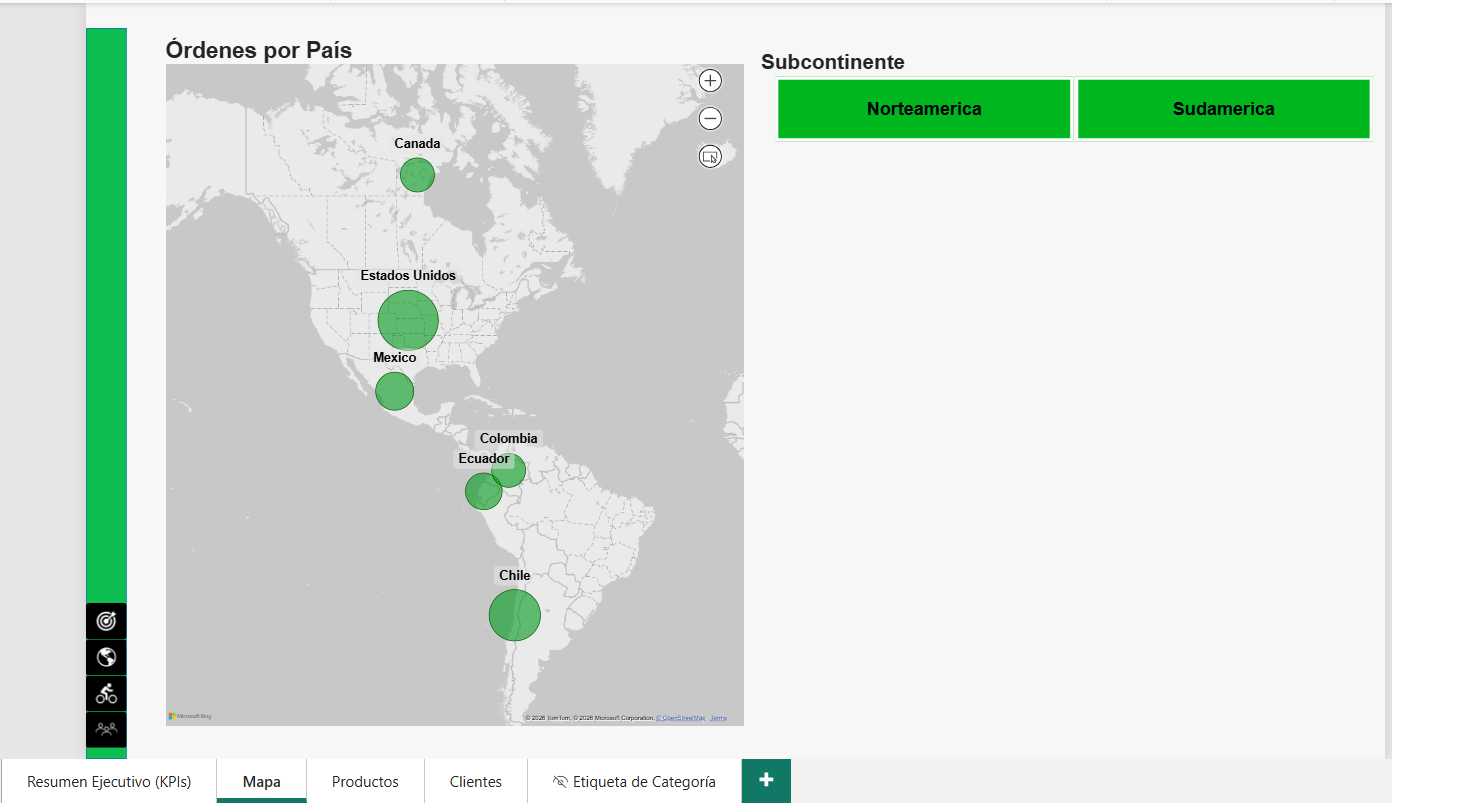

The dashboard page shown, as its layout file describes it:
{"tool":"powerbi","page":{"name":"Mapa","canvas":[1920,1080],"ordinal":1},"visuals":[{"type":"shape","box":[0,0,60,1080],"z":0},{"type":"map","title":"Órdenes por País","fields":{"Category":["Territorios.Pais"],"Size":["Tabla de Medidas.Total de Ordenes"]},"box":[101.6,0,886.5,1047.1],"z":1000},{"type":"slicer","title":"Subcontinente","fields":{"Values":["Territorios.Continente"]},"box":[997.3,33.2,923.4,136.7],"z":2000},{"type":"actionButton","box":[0,849.3,60,53.3],"z":3000},{"type":"actionButton","box":[0,956,60,53.3],"z":4000},{"type":"actionButton","box":[0,1009.3,60,53.3],"z":5000},{"type":"actionButton","box":[0,902.7,60,53.3],"z":6000}]}

Visuals, with their boxes on the page's 1920x1080 design canvas (x1, y1, x2, y2). These are canvas units, not pixel positions in the 1469x803 screenshot, which may show the page scaled, cropped or inside an application window:
shape: l=0, t=0, r=60, b=1080
"Órdenes por País" map: l=102, t=0, r=988, b=1047
"Subcontinente" slicer: l=997, t=33, r=1921, b=170
actionButton: l=0, t=849, r=60, b=903
actionButton: l=0, t=956, r=60, b=1009
actionButton: l=0, t=1009, r=60, b=1063
actionButton: l=0, t=903, r=60, b=956
